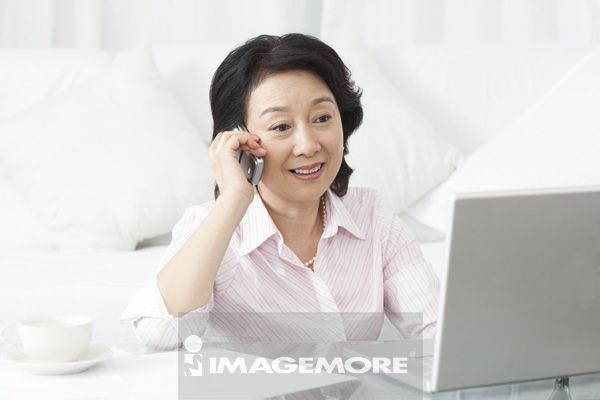talk: (209, 91, 344, 212)
